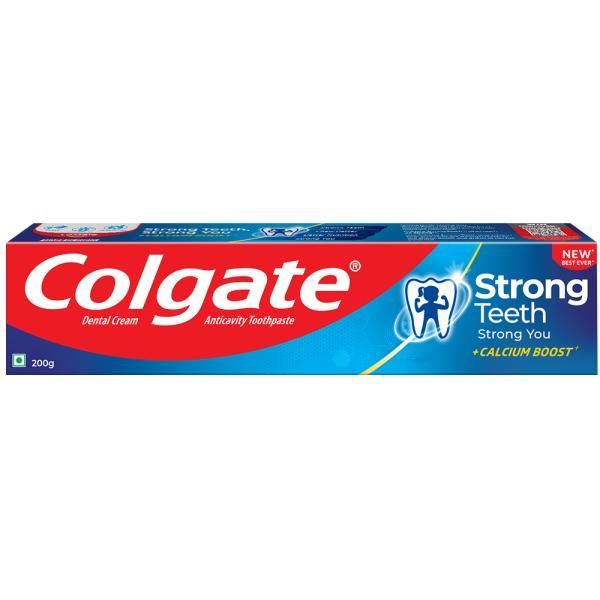Colgate: (6, 220, 598, 377)
